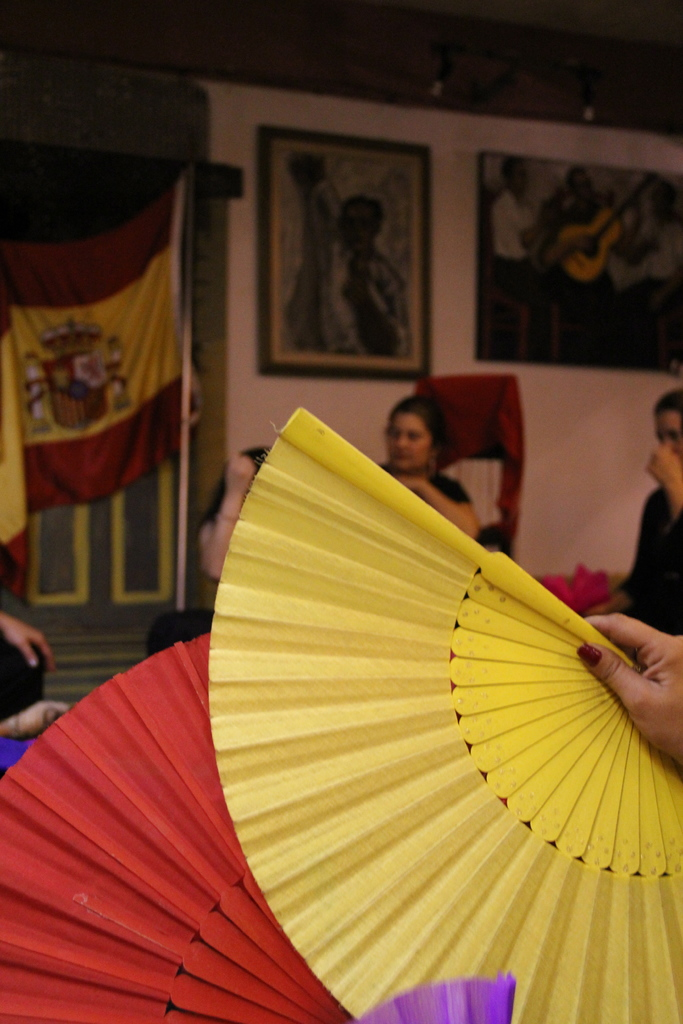face: (385, 403, 430, 467), (649, 397, 676, 455)
person: (580, 374, 679, 628), (377, 383, 504, 543)
